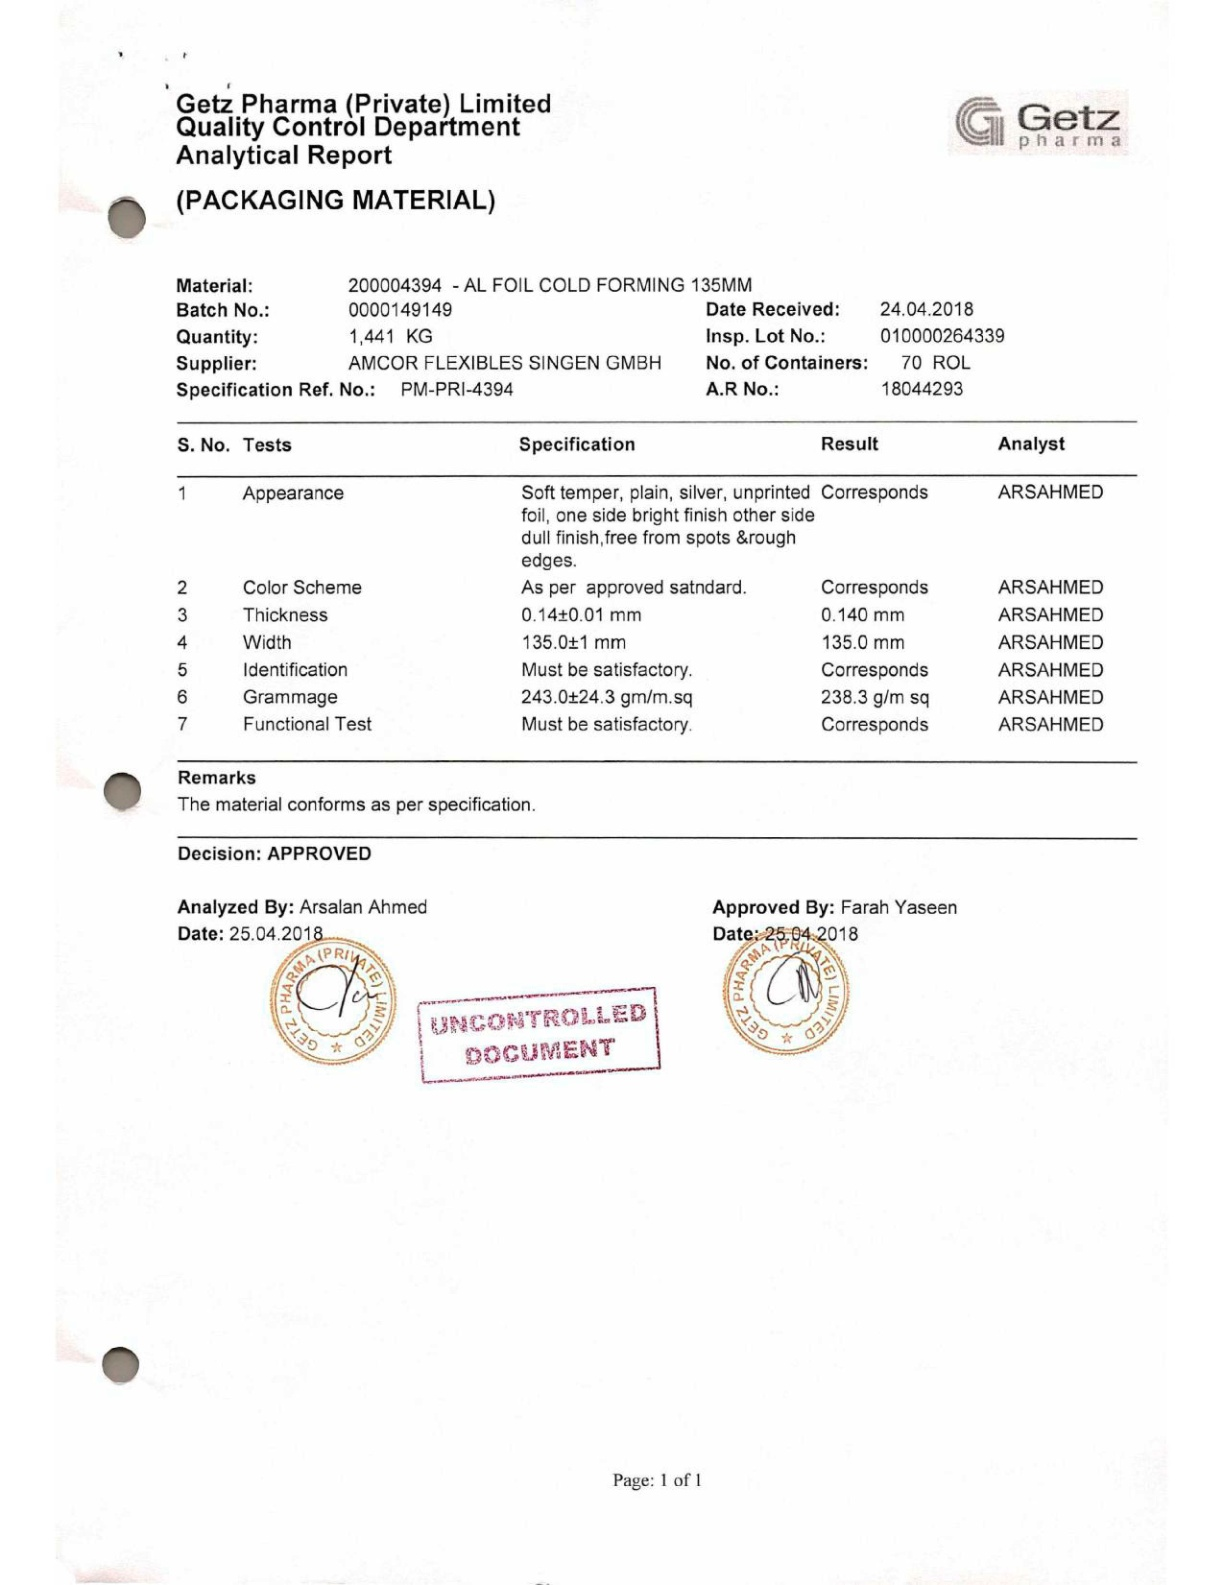nolines: (174, 274, 1007, 407)
partial_lined: (176, 422, 1137, 762)
